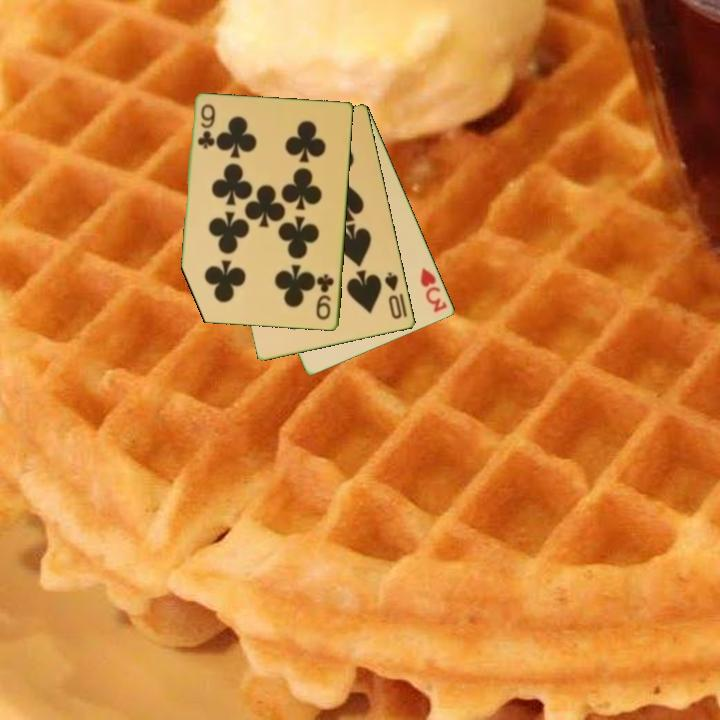10s: (381, 269, 405, 322)
3h: (417, 264, 450, 316)
9c: (313, 271, 337, 323), (194, 101, 217, 152)
